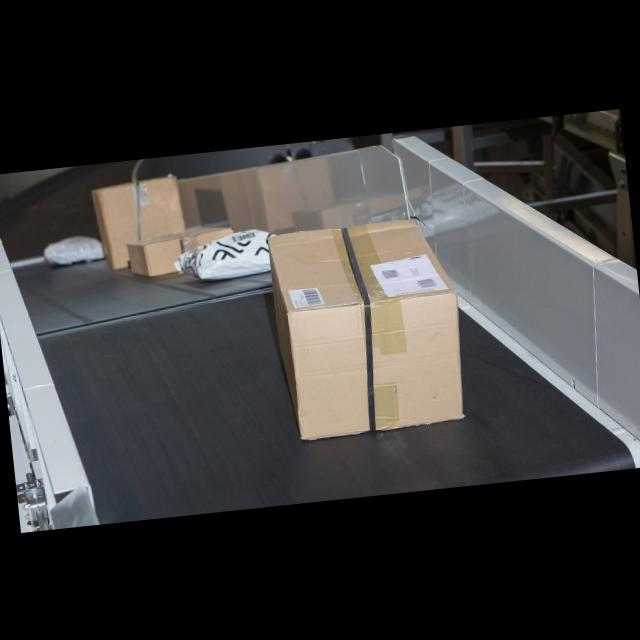box: (266, 215, 464, 442), (92, 175, 186, 270), (128, 228, 182, 276)
mailer: (186, 228, 268, 280), (43, 233, 102, 266)
